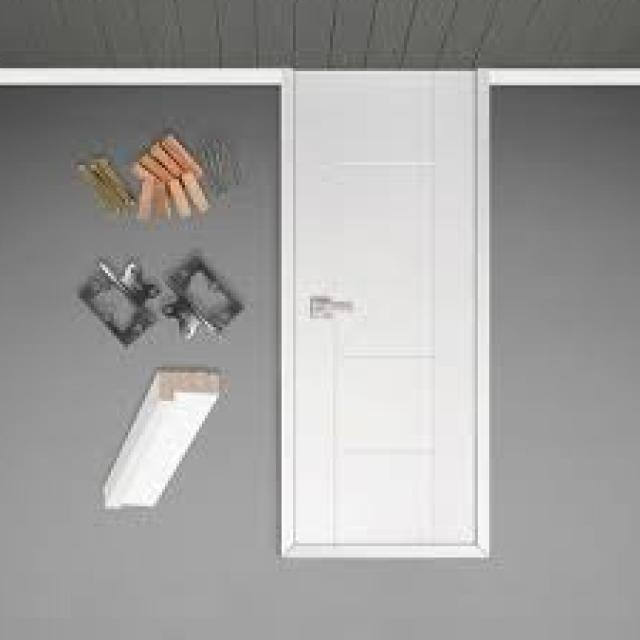door: (284, 69, 483, 558)
